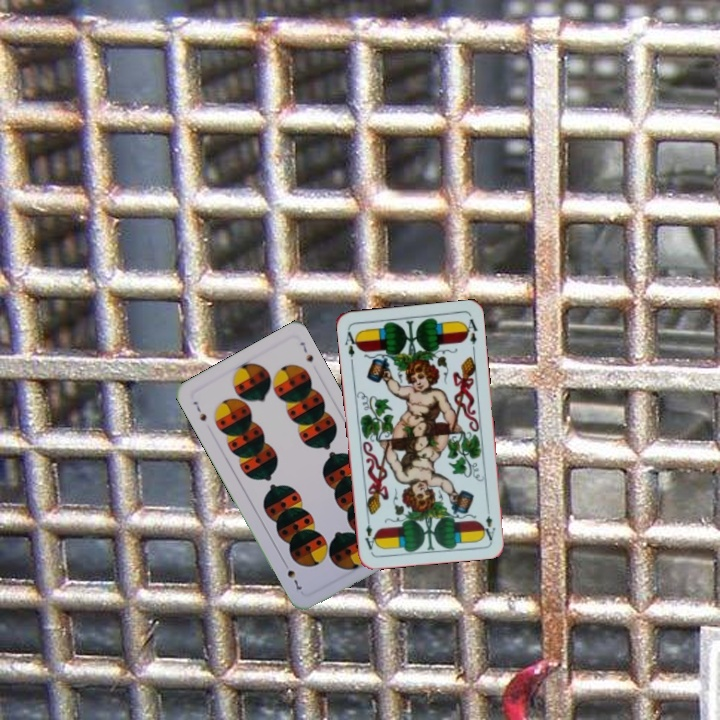EA: (479, 502, 498, 543), (341, 326, 361, 360)
S7: (189, 397, 209, 424)
